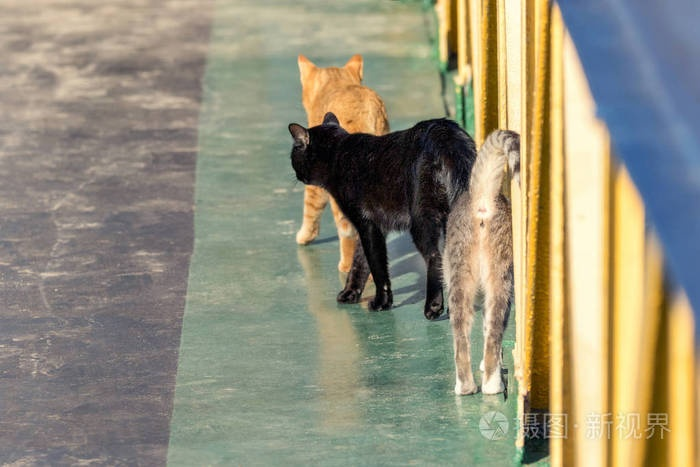cat: (288, 112, 477, 322), (295, 55, 390, 284), (443, 129, 521, 396)
